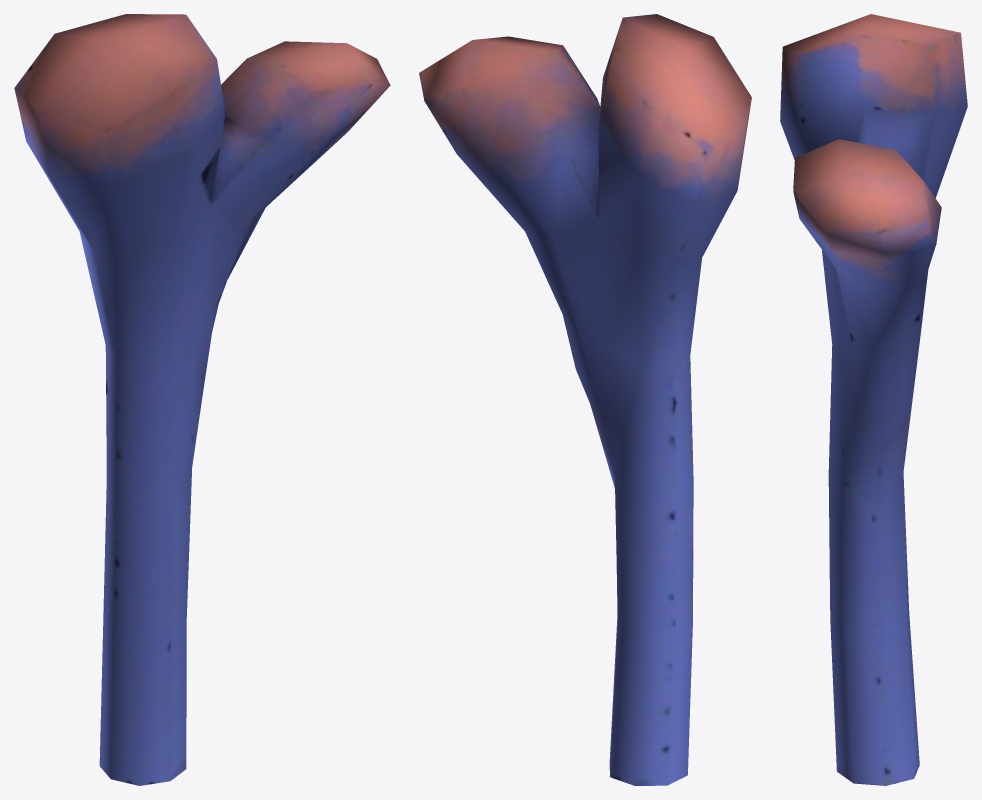
The model's file is 34-Bubble.fbx.
The picture shows the model from 3 angles, left to right: view 1: azimuth 30°, elevation 25°; view 2: azimuth 150°, elevation 25°; view 3: azimuth 270°, elevation 25°; orthographic projection.
Visible parts, largest first — view 1: 34-Bubble_LOD00; view 2: 34-Bubble_LOD00; view 3: 34-Bubble_LOD00.
Boxes of the visible parts, x1,y1,x2,y2 form: 34-Bubble_LOD00: (14,14,390,785); 34-Bubble_LOD00: (419,14,751,785); 34-Bubble_LOD00: (780,14,967,785).
Bounding box in the file's own units: 18.18 × 39.02 × 8.87.
